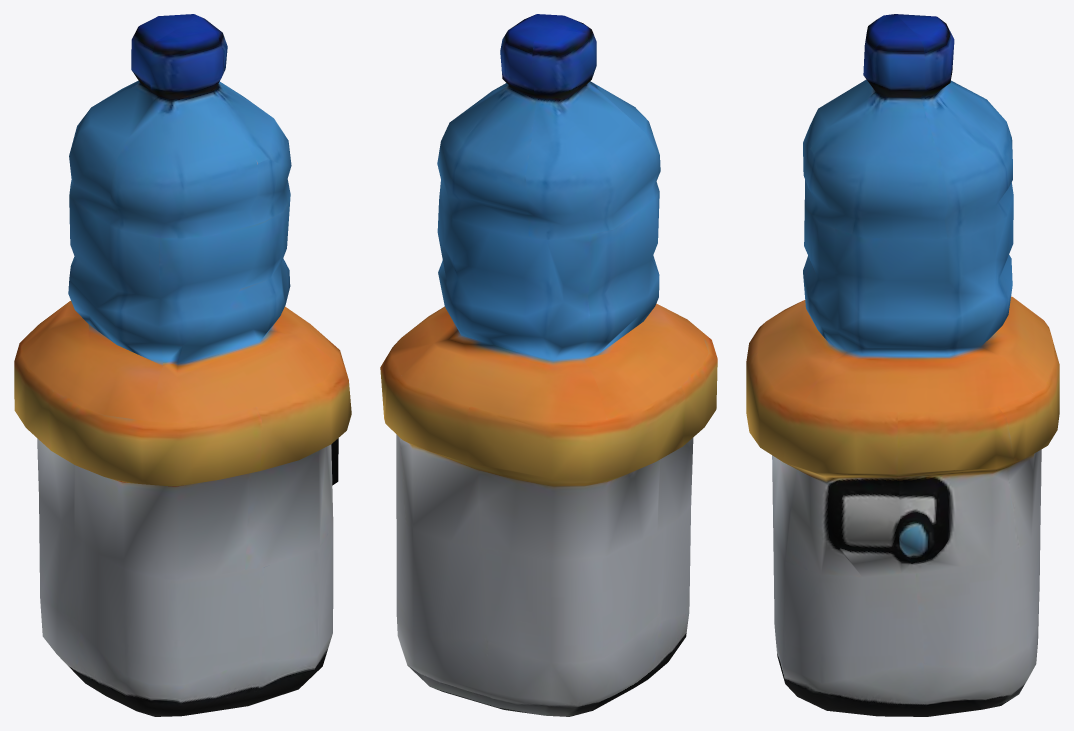
The model's file is water-cooler.glb.
The picture shows the model from 3 angles, left to right: view 1: azimuth 30°, elevation 25°; view 2: azimuth 150°, elevation 25°; view 3: azimuth 270°, elevation 25°; orthographic projection.
Visible parts, largest first — view 1: tripo_node_bbce9053-685f-4bbc-99c2-512ab4e43e10; view 2: tripo_node_bbce9053-685f-4bbc-99c2-512ab4e43e10; view 3: tripo_node_bbce9053-685f-4bbc-99c2-512ab4e43e10.
Part boxes in pixels (x1,y1,x2,y2): tripo_node_bbce9053-685f-4bbc-99c2-512ab4e43e10: (14, 14, 351, 716); tripo_node_bbce9053-685f-4bbc-99c2-512ab4e43e10: (380, 14, 717, 716); tripo_node_bbce9053-685f-4bbc-99c2-512ab4e43e10: (746, 14, 1059, 716).
Bounding box in the file's own units: 0.438 × 0.9998 × 0.4345.
1 material, 1 textured.
